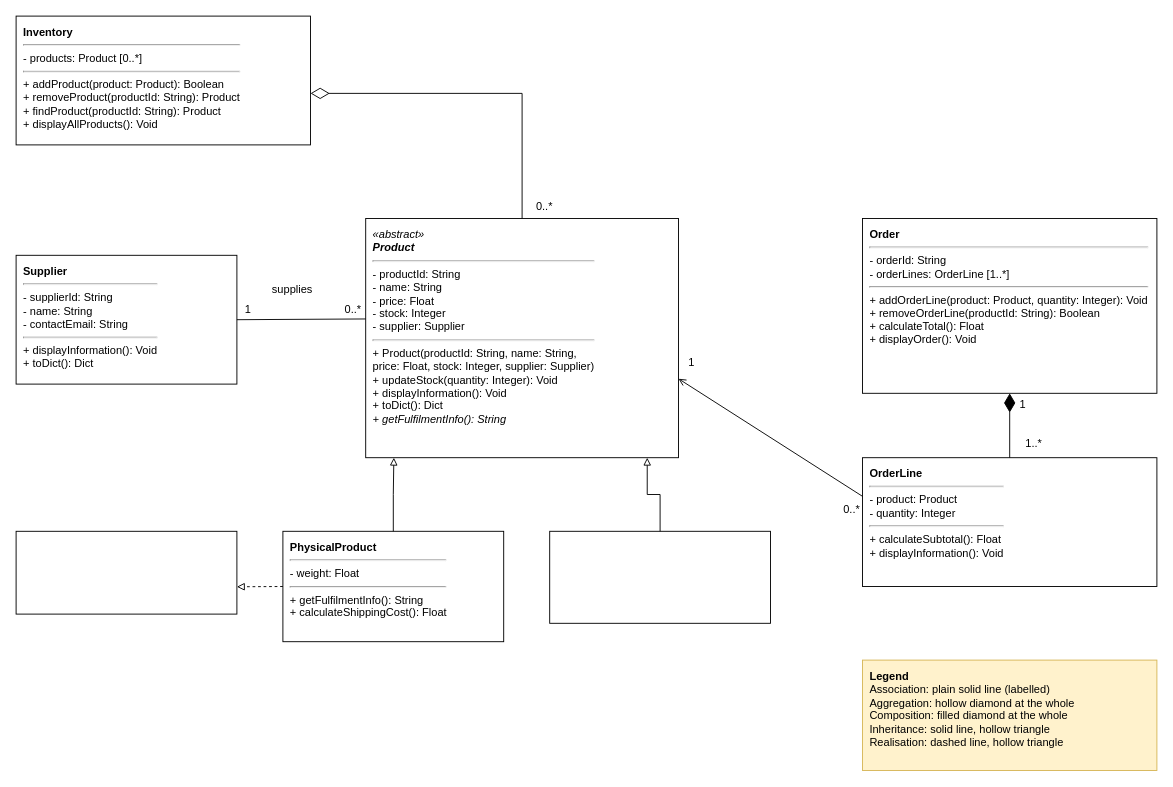
Some shapes in this 1173 by 787 pixel diagram are drawn without their labels. The centre of each missing label's shape, as x and y in pixels:
"DigitalProduct - downloadSize: Float + getFulfilmentInfo(): String" goes at [659,576].
"«interface» CanBeShipped + calculateShippingCost(): Float" goes at [126,572].
